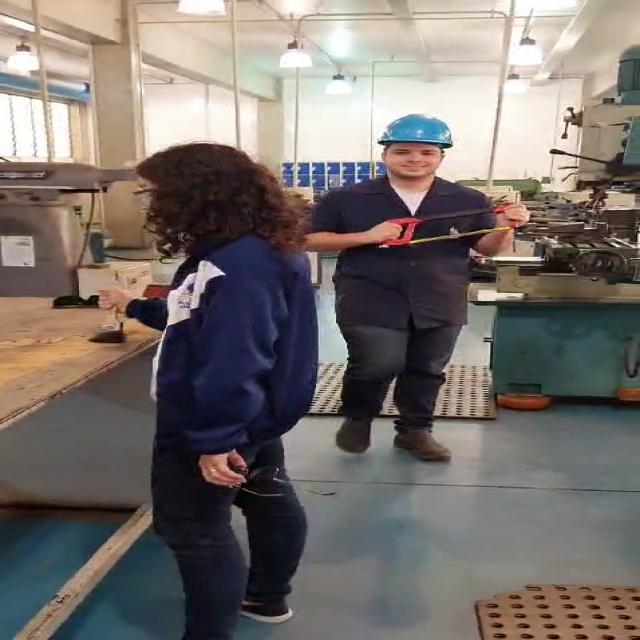oculos-epi: (119, 180, 164, 209)
sem_oculos: (375, 142, 461, 160)
